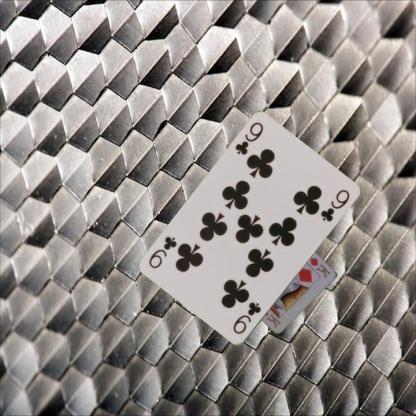9c: (232, 120, 265, 157), (230, 299, 262, 336)
Kd: (308, 255, 332, 279)
